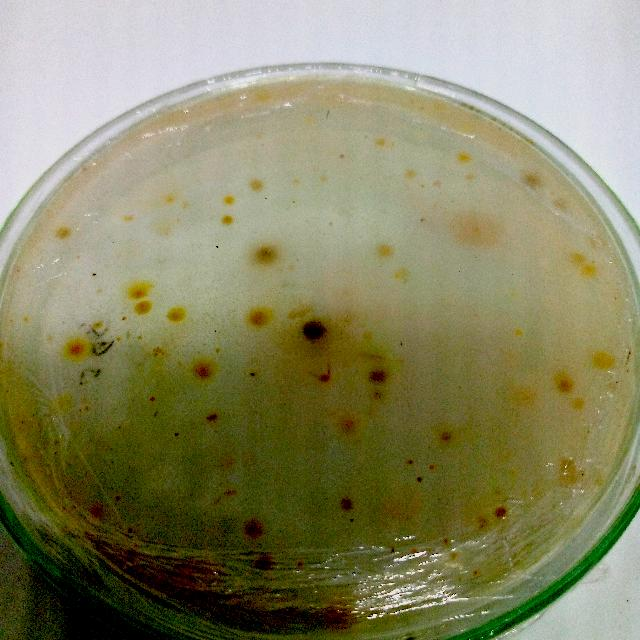colony: (449, 206, 503, 250), (323, 596, 361, 634), (514, 166, 546, 194), (250, 242, 284, 268), (298, 316, 328, 342), (334, 410, 364, 436), (188, 360, 216, 384), (590, 348, 616, 372), (373, 238, 397, 264), (248, 304, 272, 328), (165, 304, 187, 326), (366, 362, 388, 384), (490, 502, 512, 524), (254, 552, 274, 576), (565, 248, 587, 268), (243, 520, 264, 540), (553, 372, 573, 393), (66, 340, 86, 360), (570, 393, 590, 413), (157, 221, 177, 241), (473, 512, 493, 532), (367, 383, 388, 402), (401, 162, 419, 184), (576, 259, 598, 277), (452, 148, 473, 166), (246, 174, 264, 194), (436, 426, 454, 446), (53, 223, 71, 243), (88, 500, 106, 518), (373, 132, 391, 150), (172, 556, 190, 574), (128, 284, 148, 300), (132, 298, 152, 314), (337, 497, 357, 513), (119, 211, 137, 225), (162, 190, 176, 207), (220, 192, 236, 206), (510, 326, 526, 340), (394, 266, 408, 282), (150, 344, 166, 358), (203, 411, 220, 424), (178, 195, 192, 209), (126, 548, 140, 562), (466, 566, 482, 578), (462, 169, 476, 181), (429, 178, 443, 190), (294, 558, 306, 572), (448, 550, 462, 562), (170, 428, 183, 440), (220, 214, 232, 226), (414, 474, 426, 486), (146, 392, 158, 404), (318, 372, 330, 383), (94, 286, 105, 296), (440, 536, 450, 546), (388, 545, 398, 555), (403, 457, 412, 468), (92, 320, 101, 330), (123, 330, 131, 340), (346, 515, 356, 523), (70, 503, 78, 512), (249, 370, 257, 378), (214, 242, 222, 250), (213, 346, 220, 354), (113, 494, 121, 501), (120, 315, 128, 321), (136, 334, 144, 340), (20, 316, 28, 322), (126, 528, 134, 534), (90, 271, 98, 277), (116, 336, 122, 342), (103, 326, 109, 332), (214, 328, 218, 334), (262, 196, 268, 200)
